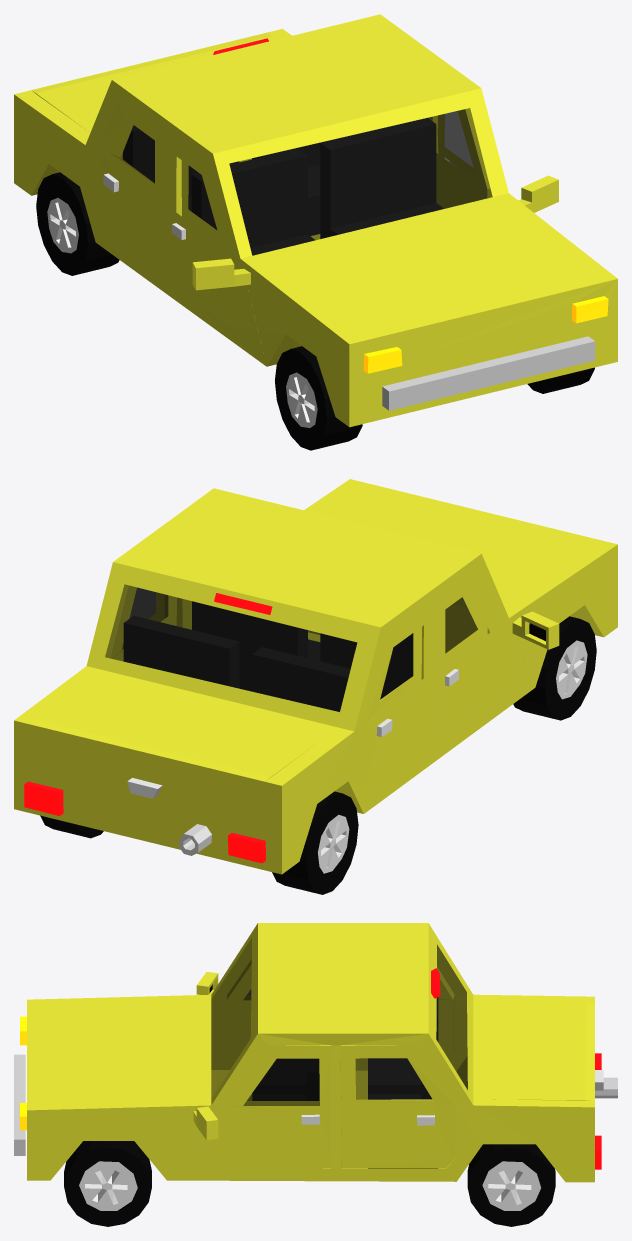
The model's file is car.glb.
3 renders of one model, top to bottom at view 1: azimuth 30°, elevation 25°; view 2: azimuth 150°, elevation 25°; view 3: azimuth 270°, elevation 25°, orthographic. The views are drawn at different scales.
Visible parts, largest first — view 1: Cube001, Cube001_2, FrontHatch, Cube001_1, Cube010, Cube002, FrontBumber, Cube005, Cylinder002_1, Cylinder003_1, Cube003, Cube001_3 (+8 smaller); view 2: Cube001, Cube005, Cube001_2, Cube001_1, FrontHatch, Cube010, Cube002, Cylinder003_1, Cylinder002_1, Cube001_4, Cube012, Cylinder002 (+7 smaller); view 3: Cube001, FrontHatch, Cube005, Cube012, Cube003, Cube001_2, Cube001_1, Cylinder001_1, Cylinder004_1, Cube003_1, Cube012_1, Cylinder001 (+7 smaller).
Part boxes in pixels (x1,y1,x2,y2): Cube001: (14, 14, 617, 427); Cube001_2: (229, 108, 492, 255); FrontHatch: (267, 206, 592, 334); Cube001_1: (123, 118, 443, 255); Cube010: (96, 99, 163, 276); Cube002: (169, 136, 231, 326); FrontBumber: (382, 336, 595, 410); Cube005: (31, 32, 276, 132); Cylinder002_1: (275, 346, 362, 450); Cylinder003_1: (36, 172, 119, 275); Cube003: (428, 108, 492, 208); Cube001_3: (363, 296, 608, 373); Cube001: (14, 479, 617, 874); Cube005: (28, 677, 326, 828); Cube001_2: (105, 584, 466, 711); Cube001_1: (123, 601, 413, 711); FrontHatch: (322, 489, 593, 605); Cube010: (365, 604, 432, 793); Cube002: (438, 573, 499, 744); Cylinder003_1: (272, 791, 358, 894); Cylinder002_1: (513, 616, 596, 720); Cube001_4: (24, 593, 272, 863); Cube012: (105, 584, 176, 661); Cylinder002: (556, 640, 587, 699); Cube001: (27, 923, 594, 1182); FrontHatch: (40, 1002, 195, 1103); Cube005: (489, 1002, 594, 1100); Cube012: (340, 1045, 454, 1168); Cube003: (227, 1045, 331, 1168); Cube001_2: (211, 938, 467, 1097); Cube001_1: (252, 997, 438, 1168); Cylinder001_1: (64, 1141, 151, 1226); Cylinder004_1: (467, 1144, 555, 1226); Cube003_1: (243, 1058, 319, 1105); Cube012_1: (355, 1058, 431, 1099); Cylinder001: (79, 1161, 137, 1210).
Bounding box in the file's own units: 6.76 × 4.06 × 11.53.
